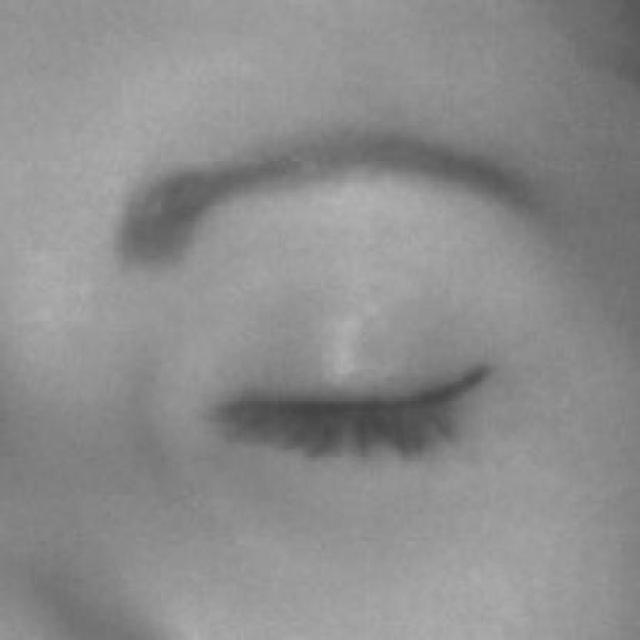drowsy: (217, 248, 497, 592)
